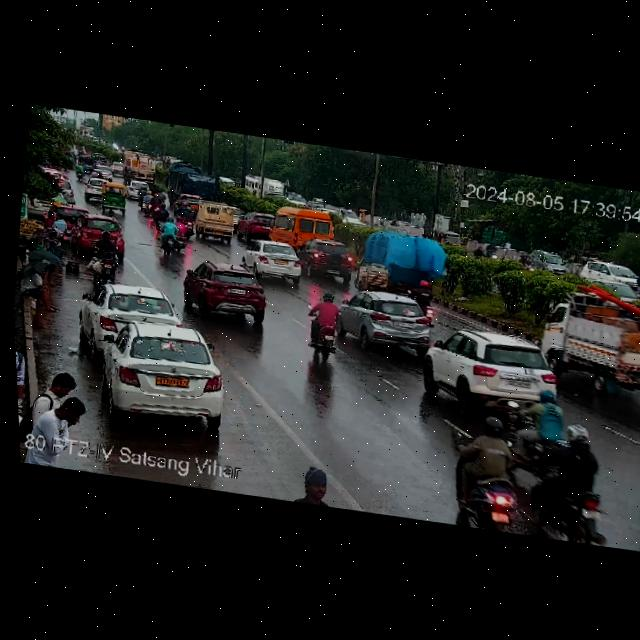car: (88, 312, 234, 429), (411, 322, 561, 420), (330, 284, 438, 357), (178, 257, 279, 326), (79, 277, 181, 344), (237, 235, 307, 282), (63, 210, 126, 257), (300, 237, 356, 279), (96, 185, 130, 212), (241, 209, 273, 235), (84, 178, 106, 191)
motorcycle: (534, 420, 615, 545), (448, 413, 528, 534), (515, 386, 566, 470), (293, 287, 345, 366), (85, 225, 125, 272), (157, 214, 190, 253), (139, 182, 172, 221), (412, 279, 441, 317), (72, 154, 96, 175)
person: (280, 459, 339, 507), (46, 391, 95, 448), (15, 332, 36, 462), (13, 269, 61, 311), (40, 368, 80, 405), (38, 229, 62, 285), (53, 212, 70, 231), (43, 209, 53, 224)
truck: (536, 285, 640, 387), (361, 232, 447, 299), (266, 204, 340, 253), (193, 199, 240, 239)
